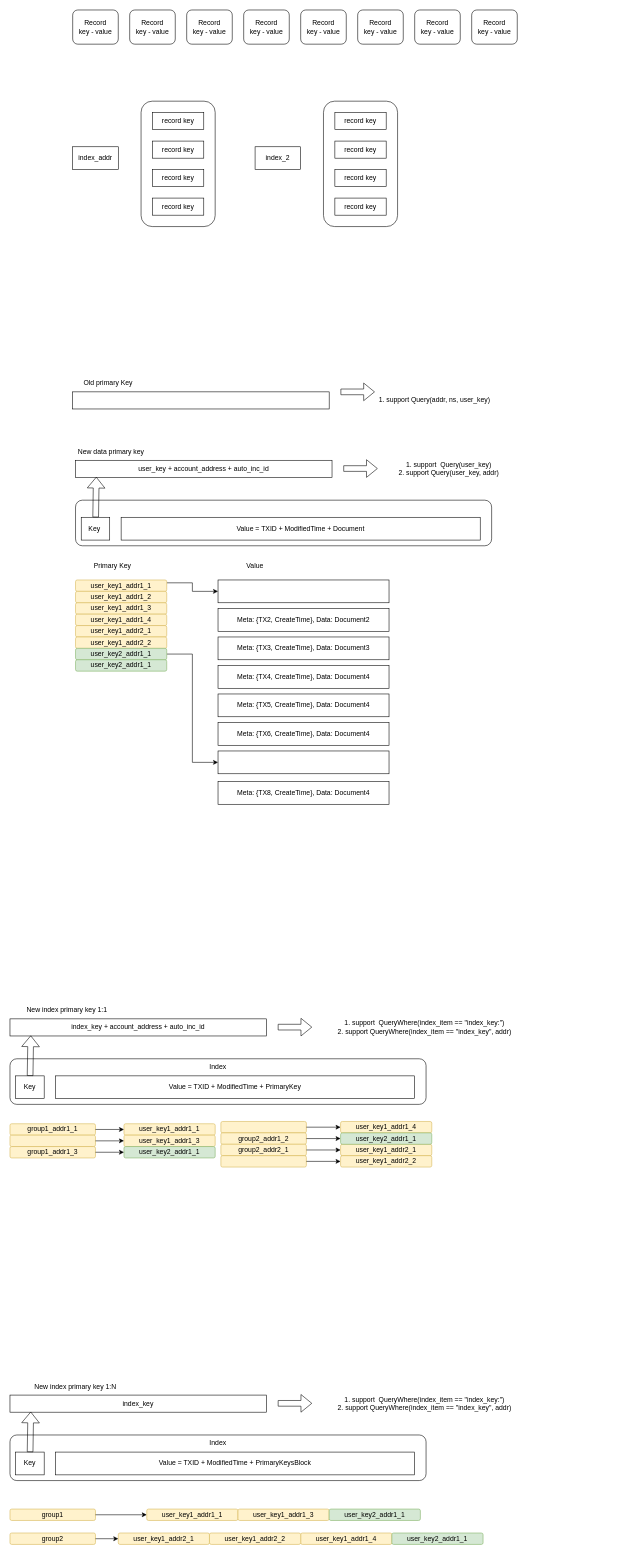
The diagram is 621 pixels wide and 1554 high, and some of its shapes have lost their labels. Each missing label, with the box of its shape:
account_address + NAMESPACE + ns + user_key: (72, 391, 329, 409)
group1_addr1_2: (9, 1135, 95, 1147)
group2_addr1_1: (220, 1121, 306, 1133)
group2_addr2_2: (220, 1155, 306, 1167)
Meta: {TX1, CreateTime}, Data: Document2: (217, 579, 389, 603)
Meta: {TX7, CreateTime}, Data: Document4: (217, 750, 389, 774)
Recrod: (75, 500, 492, 546)
